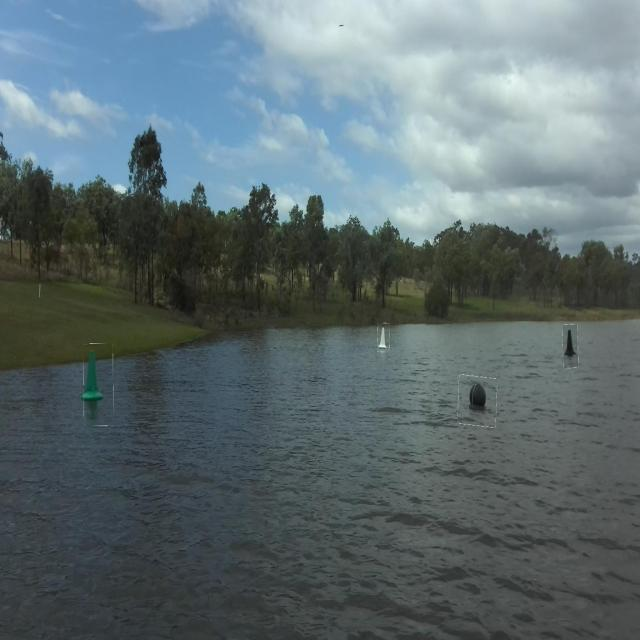Black_Buoy: (466, 366, 492, 414), (560, 320, 580, 361)
Green_Buoy: (82, 332, 109, 416)
White_Buoy: (374, 320, 395, 361)
